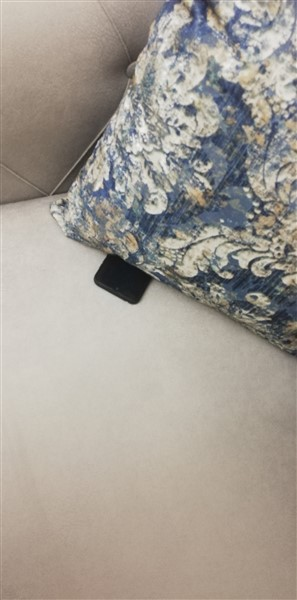telefon: (87, 247, 160, 307)
